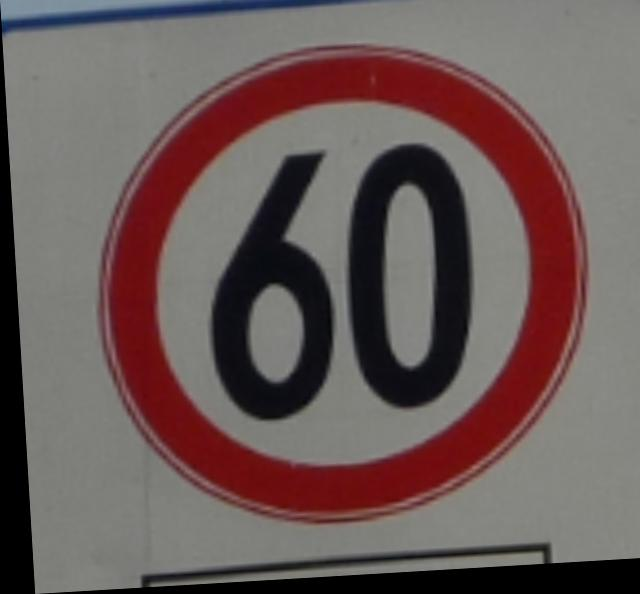limit60: (73, 24, 601, 552)
